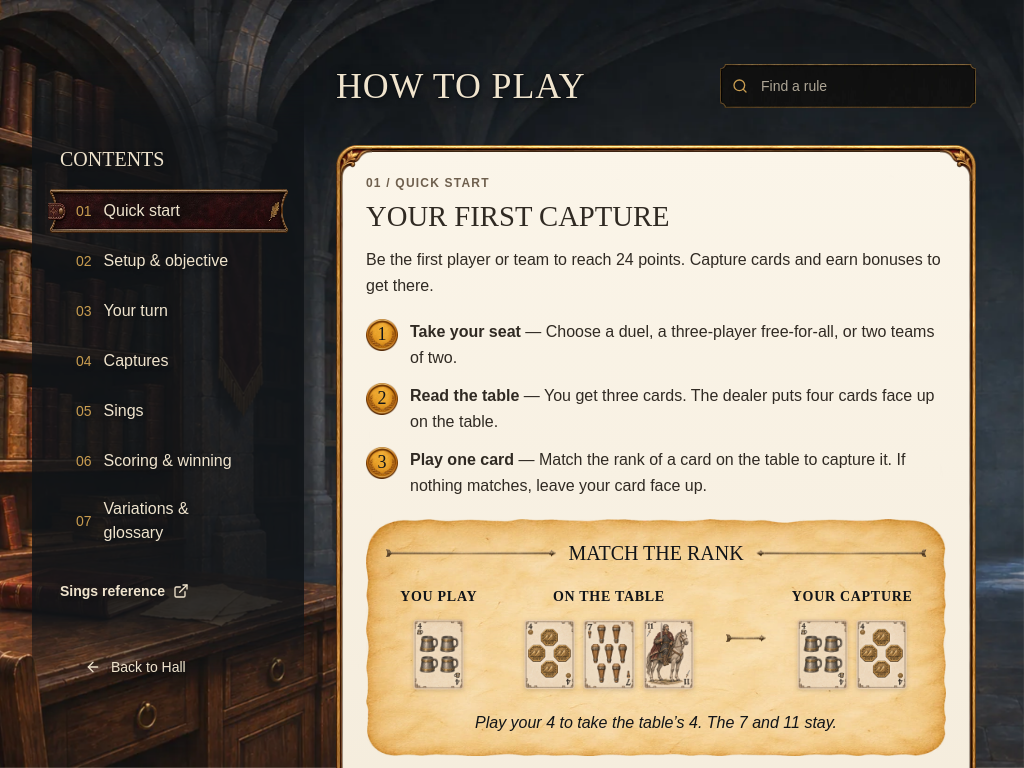
Scenario: search indexes combination values and navigates to the matching heading without stealing typing focus
This screenshot has width=1024, height=768.
In the search field labelled "Find a rule": (848, 86) x1=720 y1=64 x2=976 y2=108, type "bIG hoUse"
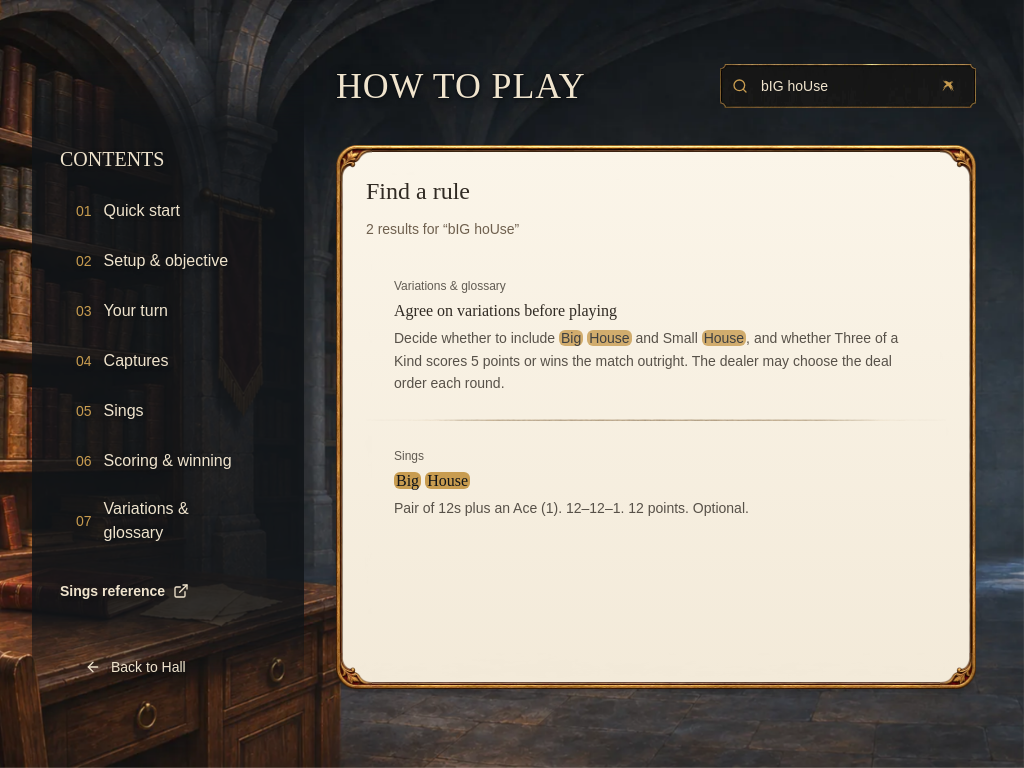
Check: the message shows "results for", box x1=366 y1=221 x2=519 y2=237
Click the link "Sings Big House": (409, 456) x1=394 y1=449 x2=749 y2=516
(page scrolled)
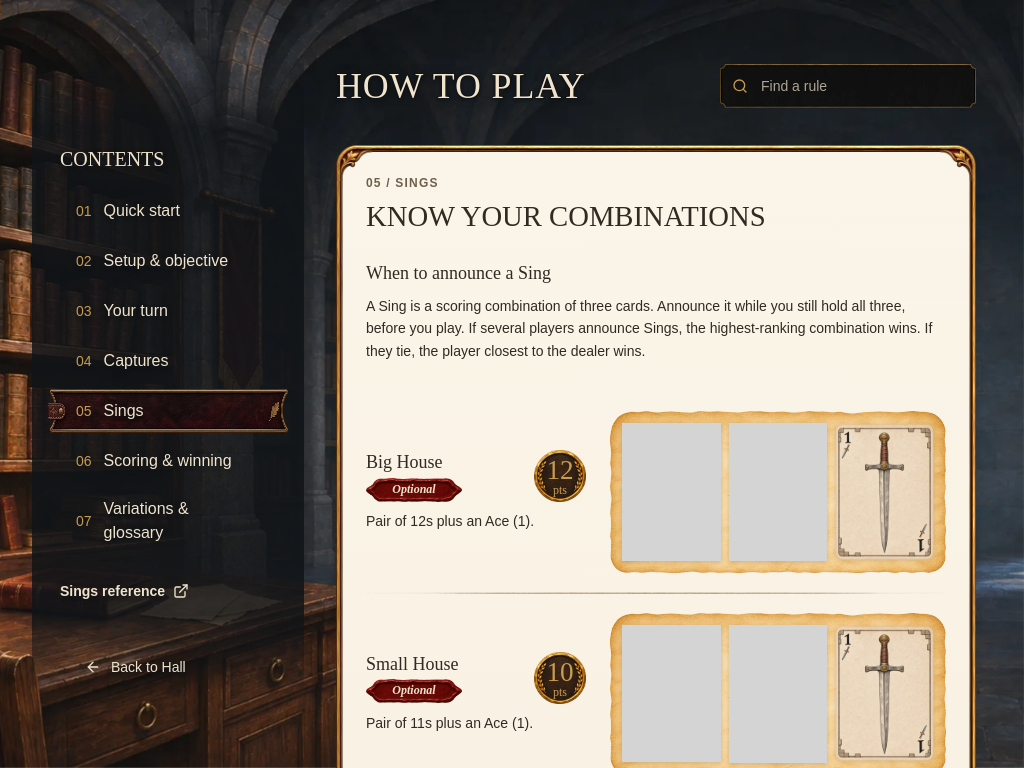
Check: the text named "Current route" shows "chapter=sings&rule=sing-0", box x1=39 y1=3 x2=238 y2=20
Check: the search field is empty
In the search field: (848, 86) x1=720 y1=64 x2=976 y2=108, type "unfindablexyz"
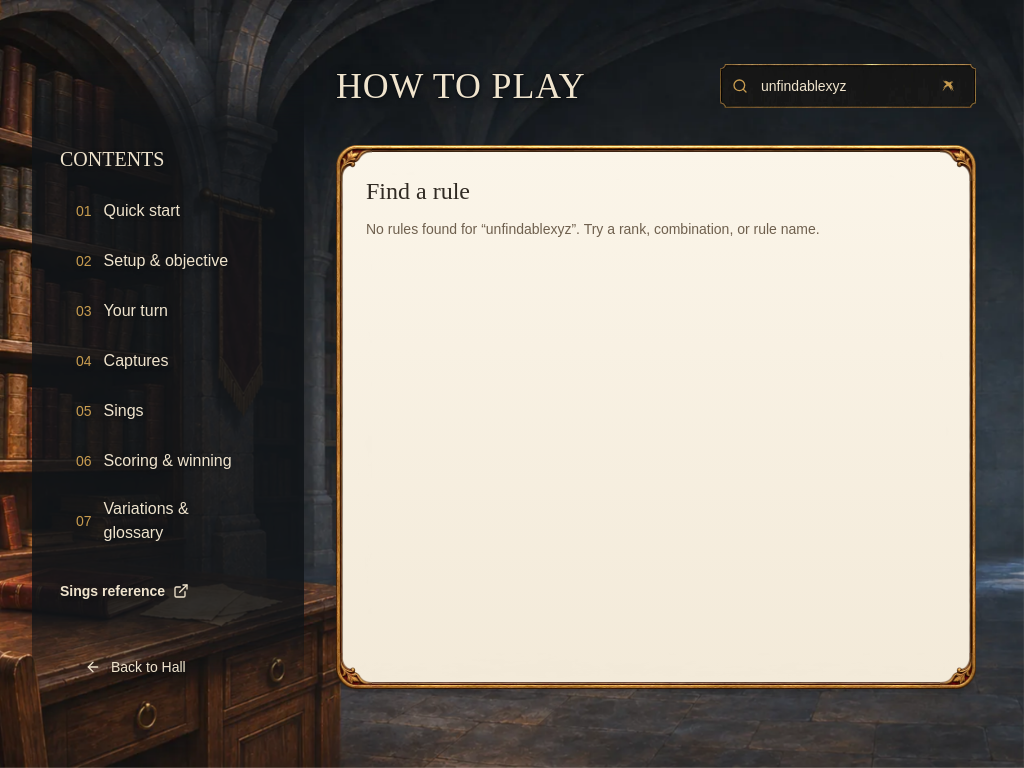
Check: the message shows "No rules found", box x1=366 y1=221 x2=820 y2=237
